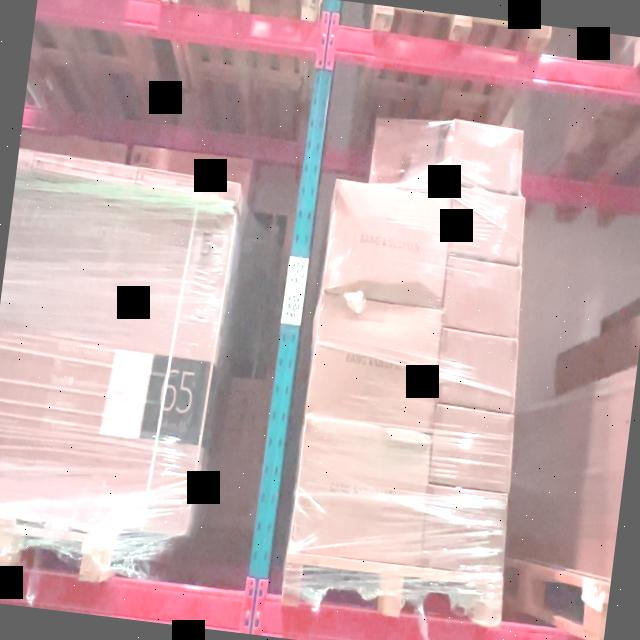box: (290, 418, 432, 564), (308, 292, 444, 430), (324, 180, 454, 307), (422, 486, 507, 574), (430, 406, 513, 490), (443, 258, 521, 334), (438, 332, 516, 408), (448, 188, 524, 260), (449, 120, 524, 190), (371, 120, 438, 188)
